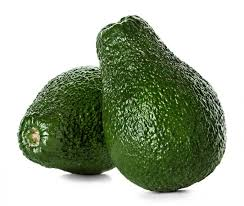avocado: (94, 12, 228, 195), (13, 53, 118, 178)
